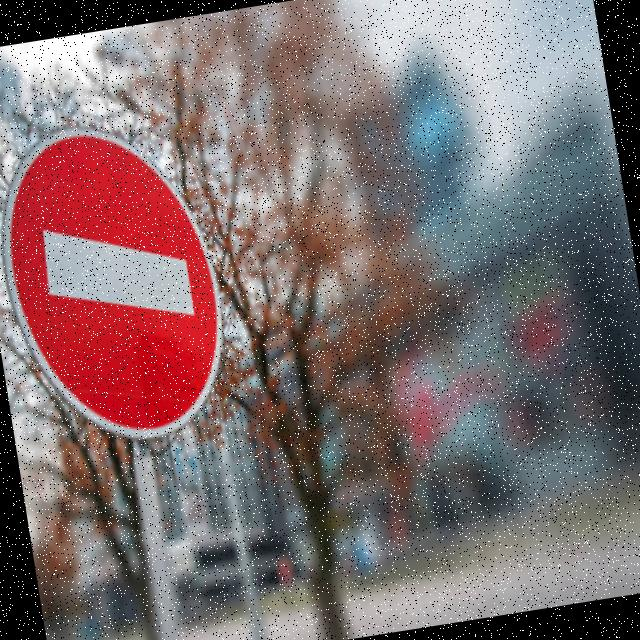do_not_enter: (0, 85, 255, 476)
